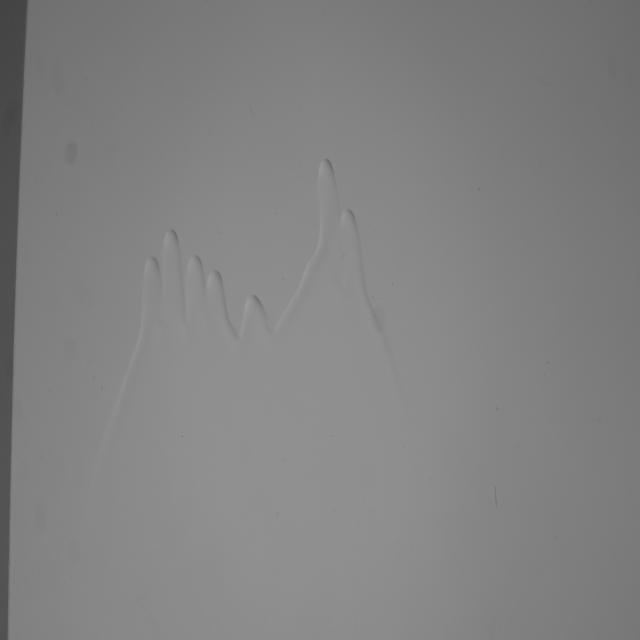paint drips: (68, 151, 418, 500)
